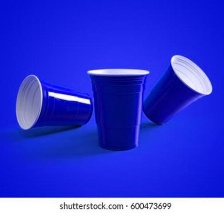glass: (86, 59, 153, 156), (142, 52, 218, 137), (9, 69, 94, 136)
